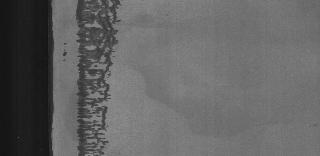oil spot: (71, 0, 121, 156)
